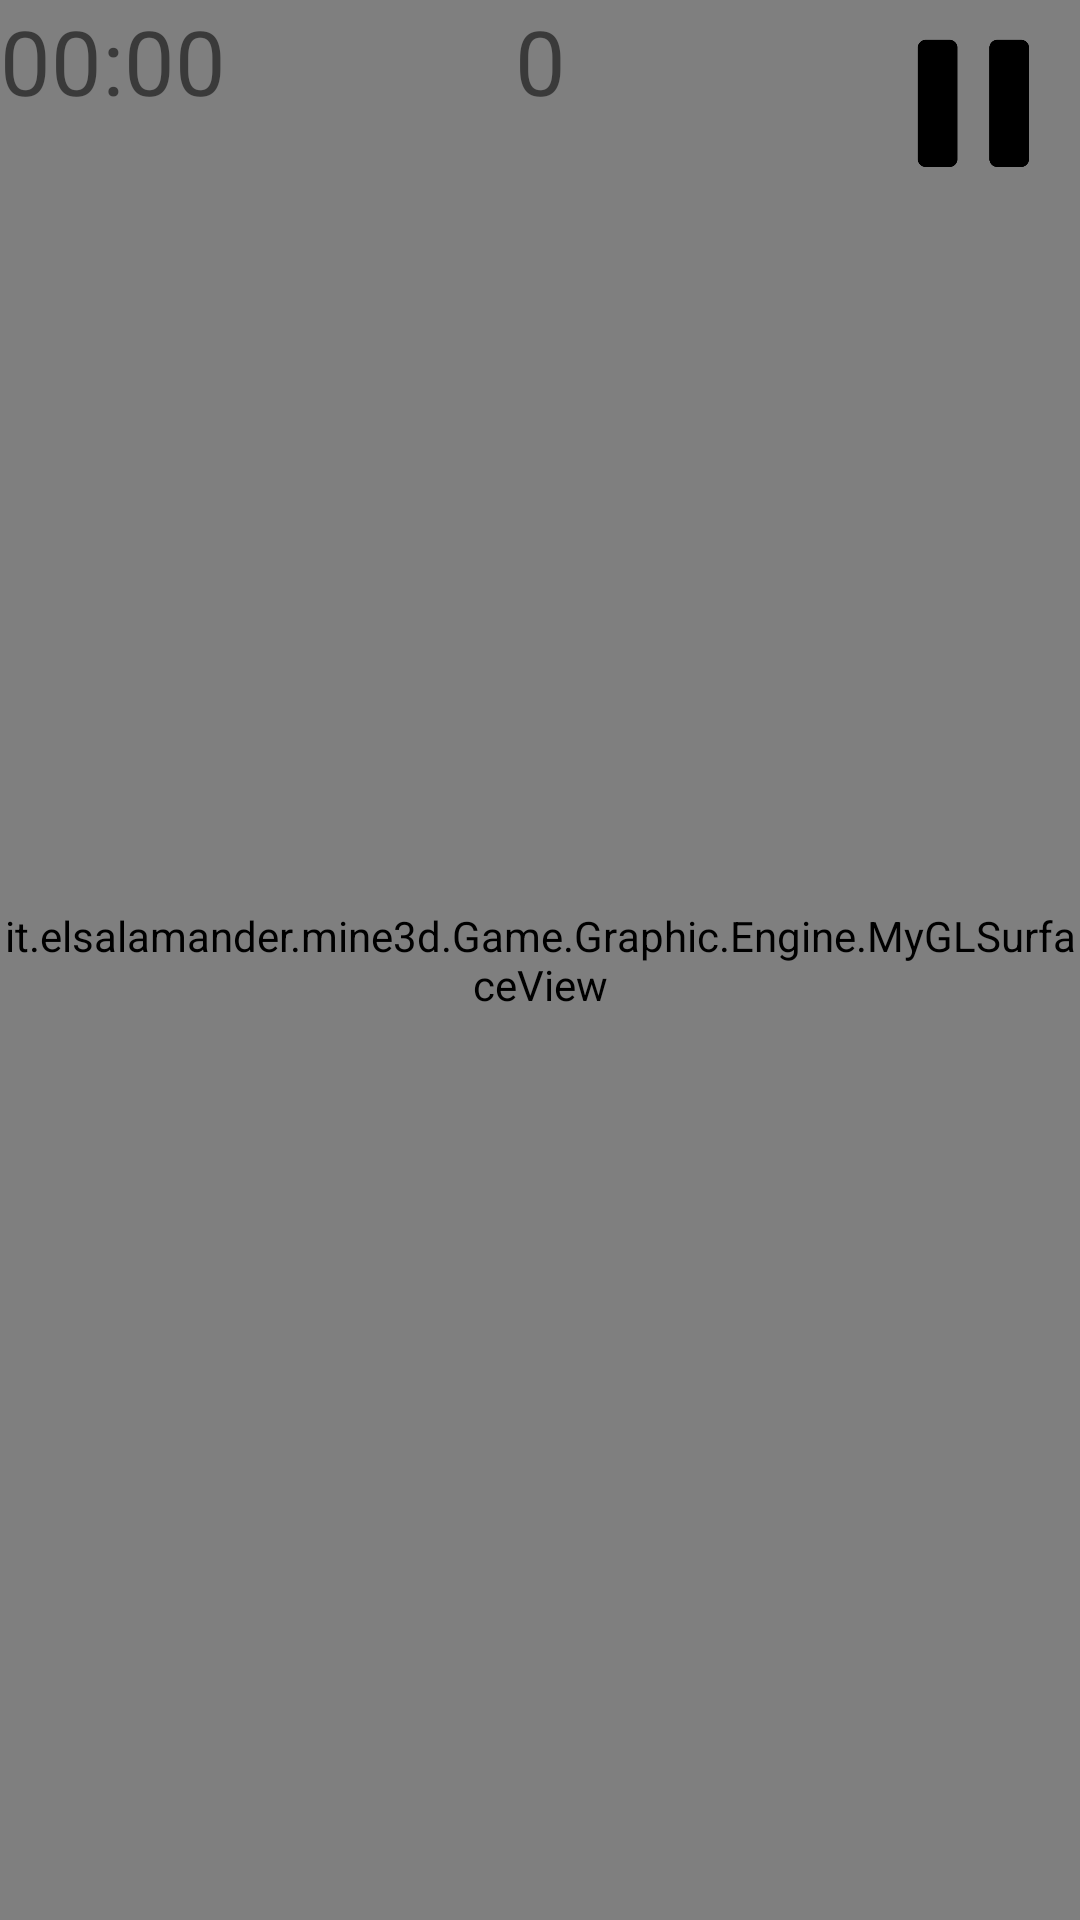

Icons on this 1080*1920 Android screen, each with its box as [x1, y1, x2, y2]:
pause: [918, 40, 1029, 167]
